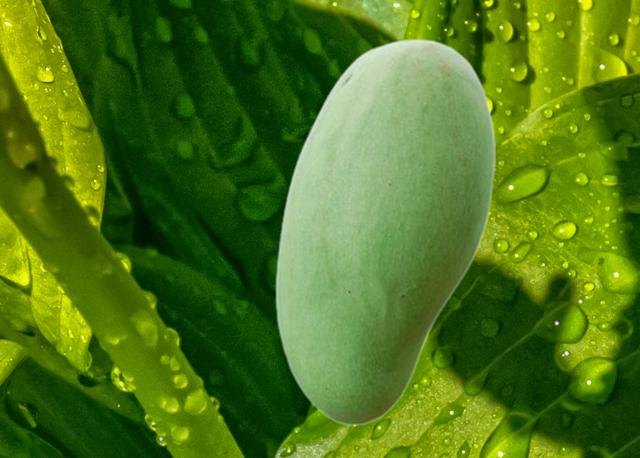green_mango: (274, 38, 494, 425)
